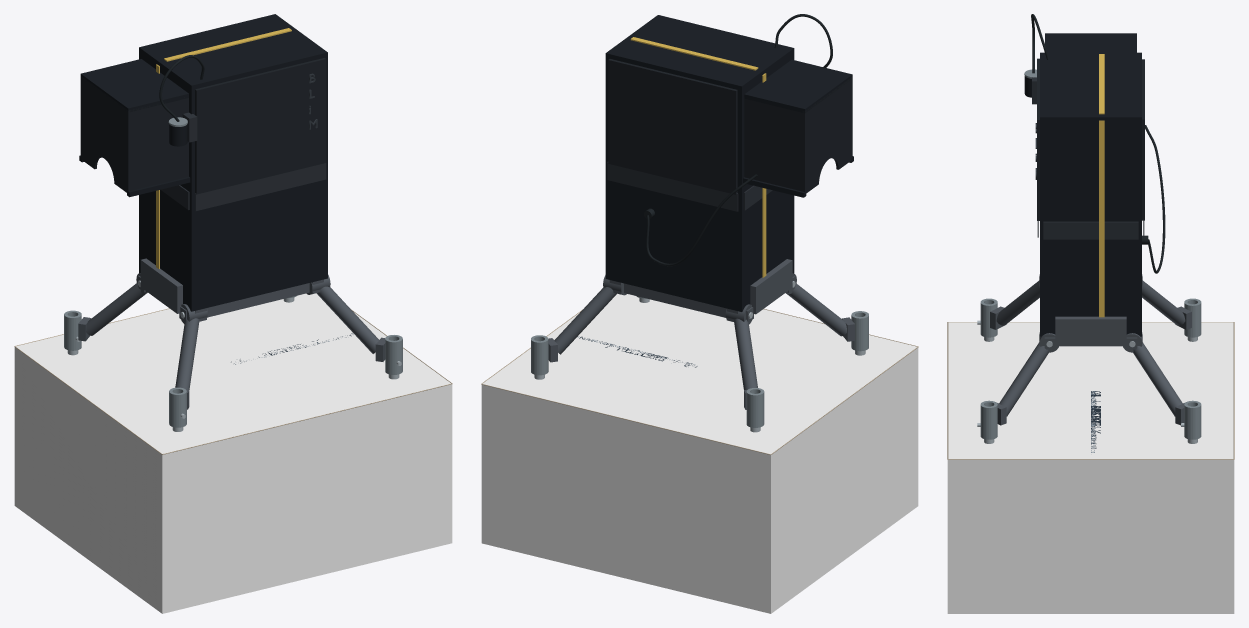
File: blim-robot.glb
The picture shows the model from 3 angles, left to right: view 1: azimuth 30°, elevation 25°; view 2: azimuth 150°, elevation 25°; view 3: azimuth 270°, elevation 25°; orthographic projection. The views are drawn at different scales.
Visible parts, largest first — view 1: Soil volume | transparent to reveal embedment, Rounded BLiM enclosure, Front upper cover, Hood wall -1, Hood end with semicircular lower opening, Hood top, Dark band broad face -1, Cradle retaining lip -1, Stem_Right_Front, Cradle cross rail -1, Stem_Left_Front, Stem_Left_Back (+4 smaller); view 2: Soil volume | transparent to reveal embedment, Rounded BLiM enclosure, Back upper access panel, Hood wall 1, Hood end with semicircular lower opening, Hood top, Dark band broad face 1, Cradle retaining lip -1, Stem_Right_Back, Cradle cross rail 1, Stem_Left_Back, Stem_Left_Front (+5 smaller); view 3: Soil volume | transparent to reveal embedment, Rounded BLiM enclosure, Cradle retaining lip 1, Hood top, Dark band narrow face 1, Yellow side retention band 1, Stem_Right_Back, Stem_Right_Front, Stem_Left_Back, Stem_Left_Front, Stem_socket_Right_Back, Stem_socket_Right_Front (+5 smaller).
Part boxes in pixels (x1,y1,x2,y2): Soil volume | transparent to reveal embedment: [14, 293, 452, 613]; Rounded BLiM enclosure: [139, 14, 327, 311]; Front upper cover: [195, 58, 326, 194]; Hood wall -1: [127, 97, 188, 192]; Hood end with semicircular lower opening: [80, 76, 130, 193]; Hood top: [80, 59, 188, 112]; Dark band broad face -1: [195, 163, 326, 211]; Cradle retaining lip -1: [140, 258, 182, 313]; Stem_Right_Front: [316, 286, 379, 353]; Cradle cross rail -1: [179, 283, 309, 321]; Stem_Left_Front: [175, 318, 199, 389]; Stem_Left_Back: [86, 283, 146, 335]; Soil volume | transparent to reveal embedment: [481, 293, 918, 613]; Rounded BLiM enclosure: [605, 15, 794, 311]; Back upper access panel: [608, 59, 737, 194]; Hood wall 1: [744, 97, 805, 191]; Hood end with semicircular lower opening: [802, 77, 852, 194]; Hood top: [744, 59, 852, 113]; Dark band broad face 1: [607, 162, 738, 211]; Cradle retaining lip -1: [750, 259, 792, 314]; Stem_Right_Back: [554, 287, 616, 354]; Cradle cross rail 1: [624, 283, 753, 322]; Stem_Left_Back: [734, 318, 757, 389]; Stem_Left_Front: [786, 284, 846, 336]; Soil volume | transparent to reveal embedment: [947, 322, 1234, 613]; Rounded BLiM enclosure: [1040, 52, 1141, 336]; Cradle retaining lip 1: [1055, 316, 1126, 345]; Hood top: [1045, 33, 1136, 52]; Dark band narrow face 1: [1043, 221, 1138, 239]; Yellow side retention band 1: [1099, 120, 1104, 317]; Stem_Right_Back: [1133, 342, 1182, 416]; Stem_Right_Front: [999, 342, 1048, 416]; Stem_Left_Back: [1142, 280, 1185, 325]; Stem_Left_Front: [996, 280, 1039, 325]; Stem_socket_Right_Back: [1184, 400, 1201, 439]; Stem_socket_Right_Front: [980, 400, 997, 439].
Size of the model in its own units: 0.5112 by 0.8546 by 0.4512.
